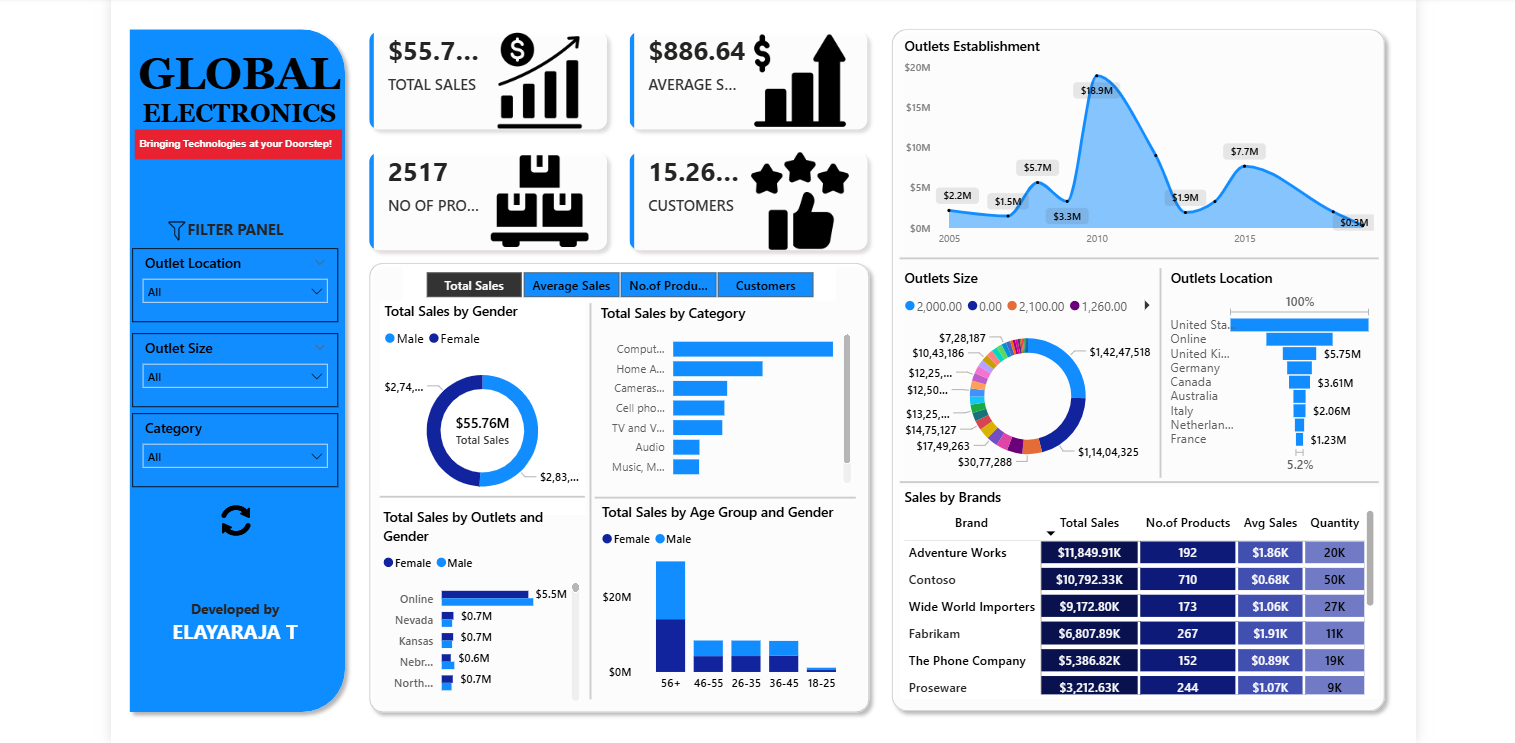

The page's visual inventory and layout, read from the dashboard file:
{"tool":"powerbi","page":{"name":"Page 1","canvas":[1400,800],"ordinal":0},"visuals":[{"type":"shape","box":[10.2,25.4,249.3,750.4],"z":0},{"type":"textbox","box":[3.8,49.6,267.1,108.1],"z":1000},{"type":"textbox","box":[25.4,142.4,222.6,31.8],"z":2000},{"type":"cardVisual","fields":{"Data":["data_spark sales.Total Sales","data_spark sales.Average Sales","data_spark products.No.of Products","data_spark customers.Customers"]},"box":[259.4,20.3,569.8,269.6],"z":3000},{"type":"shape","box":[267.6,275.7,554.1,500],"z":4000},{"type":"donutChart","fields":{"Y":["data_spark sales.Total Sales"],"Category":["data_spark customers.Gender"]},"box":[288.6,325.1,220.5,229.4],"z":5000},{"type":"slicer","fields":{"Values":["Matrics.Matrics"]},"box":[312.5,288.6,465,37.8],"z":6000},{"type":"cardVisual","fields":{"Data":["data_spark sales.Total Sales"]},"box":[351.4,432.4,94.6,63.5],"z":7000},{"type":"clusteredBarChart","fields":{"Y":["data_spark sales.Total Sales"],"Series":["data_spark customers.Gender"],"Category":["data_spark stores.State"]},"box":[287.3,546.9,220.5,213],"z":8000},{"type":"shape","box":[288.2,525.5,220,20.9],"z":9000},{"type":"shape","box":[508.2,328.8,12.3,424.7],"z":10000},{"type":"barChart","fields":{"Y":["data_spark sales.Total Sales"],"Category":["data_spark products.Category"]},"box":[520.5,328.9,278.5,197.9],"z":11000},{"type":"shape","box":[828.8,26,546.6,749.3],"z":12000},{"type":"lineChart","title":"Outlets Establishment","fields":{"Y":["data_spark sales.Total Sales"],"Category":["data_spark stores.Open_Date.Variation.Date Hierarchy.Year"]},"box":[845.2,41.1,513.7,234.2],"z":13000},{"type":"shape","box":[845.2,275.3,513.7,11],"z":14000},{"type":"donutChart","title":"Outlets Size","fields":{"Y":["data_spark sales.Total Sales"],"Category":["data_spark stores.Square_Meters"]},"box":[845.2,290.4,275,225],"z":15000},{"type":"shape","box":[1119.2,290.4,12.3,224.7],"z":16000},{"type":"funnel","title":"Outlets Location","fields":{"Category":["data_spark stores.Country"],"Y":["data_spark sales.Total Sales"]},"box":[1131.5,290.4,227.4,224.7],"z":17000},{"type":"shape","box":[845.2,515.1,513.7,11],"z":18000},{"type":"pivotTable","title":"Sales by Brands","fields":{"Rows":["data_spark products.Brand"],"Values":["data_spark sales.Total Sales","data_spark products.No.of Products","data_spark sales.Average Sales","Sum(data_spark sales.Quantity)"]},"box":[845.2,526,513.7,227.4],"z":19000},{"type":"slicer","fields":{"Values":["data_spark stores.Country"]},"box":[23.3,269.9,220.5,79.5],"z":20000},{"type":"slicer","fields":{"Values":["data_spark stores.Square_Meters"]},"box":[23.3,360.3,220.5,79.5],"z":21000},{"type":"slicer","fields":{"Values":["data_spark products.Category"]},"box":[23.3,446.6,220.5,79.5],"z":22000},{"type":"textbox","box":[70.6,233.1,124.8,35.3],"z":23000},{"type":"image","box":[50.4,233.1,39.1,35.3],"z":24000},{"type":"image","box":[110.9,540.6,45.4,42.8],"z":25000},{"type":"textbox","box":[25.2,640.2,215,70],"z":26000},{"type":"shape","box":[519.2,526.8,279.8,20.2],"z":27000},{"type":"columnChart","fields":{"Y":["data_spark sales.Total Sales"],"Category":["data_spark customers.Age Group"],"Series":["data_spark customers.Gender"]},"box":[521.1,541.2,278.5,212.5],"z":28000}]}

Visuals, with their boxes on the page's 1400x800 design canvas (x1, y1, x2, y2). These are canvas units, not pixel positions in the 1515x743 screenshot, which may show the page scaled, cropped or inside an application window:
shape: bbox(10, 25, 260, 776)
textbox: bbox(4, 50, 271, 158)
textbox: bbox(25, 142, 248, 174)
cardVisual - data_spark sales.Total Sales x data_spark sales.Average Sales: bbox(259, 20, 829, 290)
shape: bbox(268, 276, 822, 776)
donutChart - data_spark sales.Total Sales x data_spark customers.Gender: bbox(289, 325, 509, 554)
slicer - Matrics.Matrics: bbox(312, 289, 778, 326)
cardVisual - data_spark sales.Total Sales: bbox(351, 432, 446, 496)
clusteredBarChart - data_spark sales.Total Sales x data_spark customers.Gender: bbox(287, 547, 508, 760)
shape: bbox(288, 526, 508, 546)
shape: bbox(508, 329, 520, 754)
barChart - data_spark sales.Total Sales x data_spark products.Category: bbox(520, 329, 799, 527)
shape: bbox(829, 26, 1375, 775)
"Outlets Establishment" lineChart: bbox(845, 41, 1359, 275)
shape: bbox(845, 275, 1359, 286)
"Outlets Size" donutChart: bbox(845, 290, 1120, 515)
shape: bbox(1119, 290, 1132, 515)
"Outlets Location" funnel: bbox(1132, 290, 1359, 515)
shape: bbox(845, 515, 1359, 526)
"Sales by Brands" pivotTable: bbox(845, 526, 1359, 753)
slicer - data_spark stores.Country: bbox(23, 270, 244, 349)
slicer - data_spark stores.Square_Meters: bbox(23, 360, 244, 440)
slicer - data_spark products.Category: bbox(23, 447, 244, 526)
textbox: bbox(71, 233, 195, 268)
image: bbox(50, 233, 90, 268)
image: bbox(111, 541, 156, 583)
textbox: bbox(25, 640, 240, 710)
shape: bbox(519, 527, 799, 547)
columnChart - data_spark sales.Total Sales x data_spark customers.Age Group: bbox(521, 541, 800, 754)
